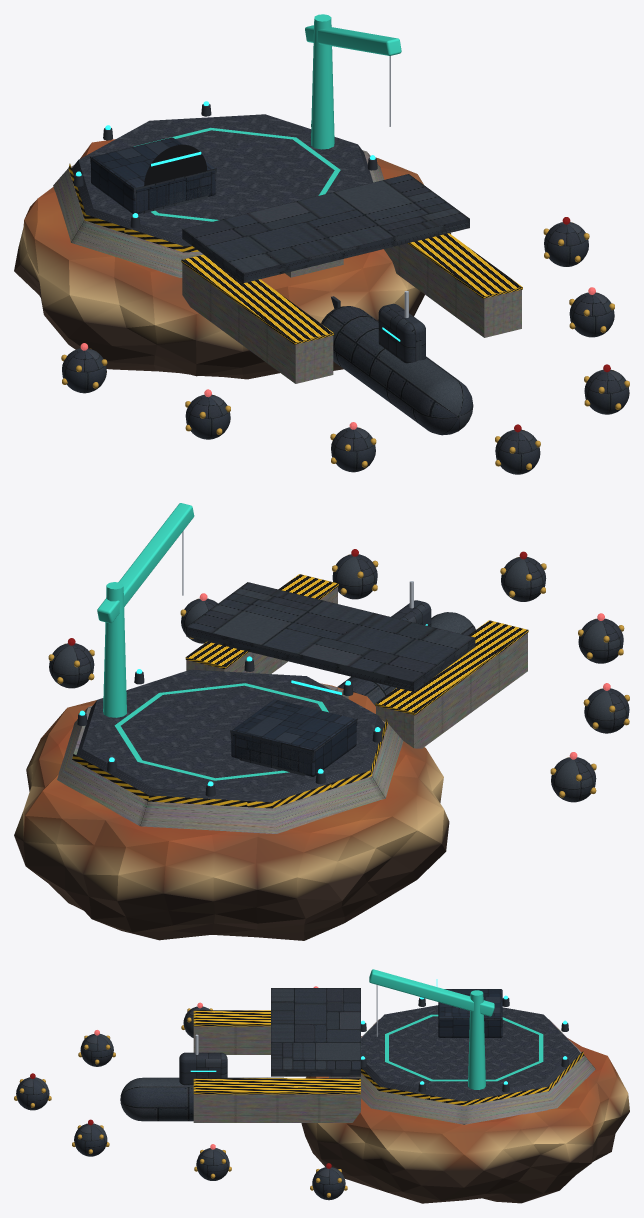
Rendered from mine-L50.glb.
3 views of the same model, one above another, from view 1: azimuth 30°, elevation 25°; view 2: azimuth 150°, elevation 25°; view 3: azimuth 270°, elevation 25° (orthographic). The views are drawn at different scales.
Parts seen in each view (by area): view 1: object 1, object 4, object 27, anim:mines, anim:sub, object 25, object 26, object 34, object 2, object 28, object 29, object 32 (+5 smaller); view 2: object 1, object 4, object 27, anim:mines, object 2, object 34, object 25, object 28, anim:crane, object 32, object 3, anim:sub (+4 smaller); view 3: object 1, object 4, object 27, anim:mines, object 2, object 26, anim:sub, object 29, object 25, object 34, anim:crane, object 32 (+3 smaller).
Boxes of the visible parts, x1,y1,x2,y2 form: object 1: (14,139,450,379); object 4: (71,114,373,246); object 27: (182,174,469,283); anim:mines: (61,217,629,474); anim:sub: (321,291,473,435); object 25: (182,263,333,383); object 26: (384,243,521,337); object 34: (91,137,215,213); object 2: (53,150,384,277); object 28: (181,254,333,344); object 29: (408,233,522,298); object 32: (311,14,334,149); object 1: (14,683,449,940); object 4: (76,669,384,802); object 27: (186,582,475,691); anim:mines: (48,549,629,802); object 2: (57,705,403,833); object 34: (231,699,356,776); object 25: (376,633,527,748); object 28: (375,620,528,715); anim:crane: (97,503,194,623); object 32: (103,582,126,717); object 3: (72,719,387,808); anim:sub: (337,581,475,706); object 1: (301,1036,629,1203); object 4: (361,1005,580,1101); object 27: (271,988,360,1076); anim:mines: (14,986,347,1200); object 2: (341,1019,595,1124); object 26: (193,1094,360,1122); anim:sub: (120,1034,286,1121); object 29: (193,1078,360,1094); object 25: (193,1026,270,1054); object 34: (438,989,502,1037); anim:crane: (369,969,494,1036); object 32: (468,990,485,1089).
Bounding box in the file's own units: 7.1 × 4.15 × 9.57.
Materials: 15 (6 with a texture image).
